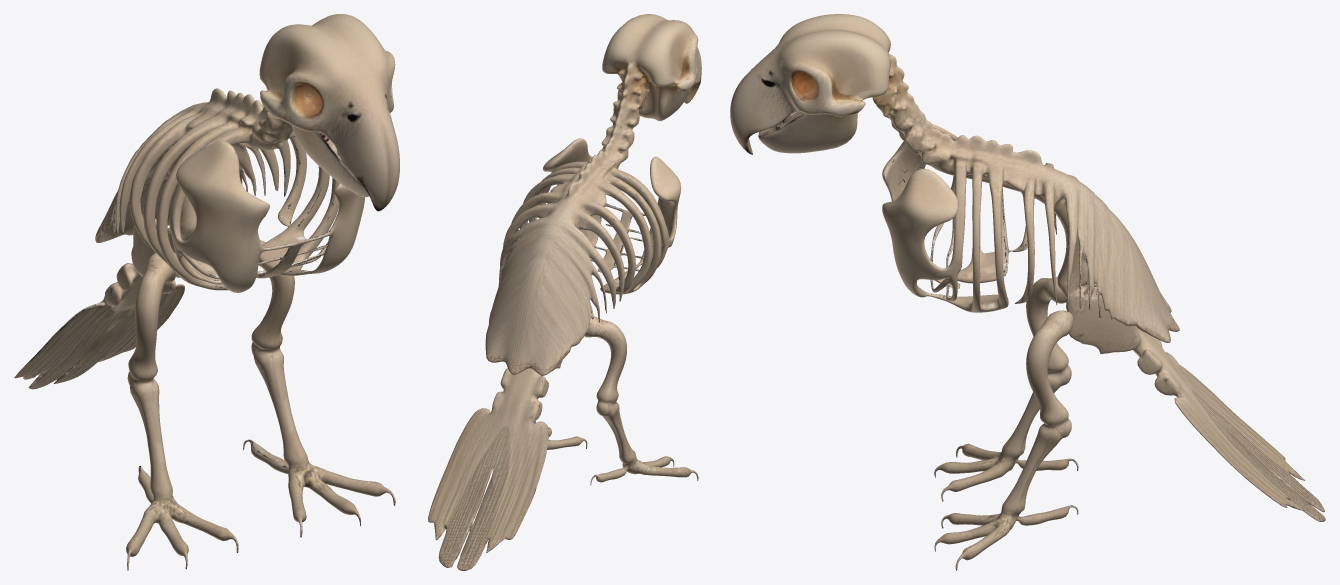
File: bird-skeleton.glb
3 views of the same model, side by side, from view 1: azimuth 30°, elevation 25°; view 2: azimuth 150°, elevation 25°; view 3: azimuth 270°, elevation 25° (orthographic). The views are drawn at different scales.
Visible parts, largest first — view 1: model; view 2: model; view 3: model.
Boxes of the visible parts, bbox=[...] form: model: bbox=[14, 14, 399, 570]; model: bbox=[428, 14, 701, 570]; model: bbox=[730, 14, 1325, 570].
Bounding box in the file's own units: 0.858 × 1.72 × 1.9.
Materials: 1 (1 with a texture image).
